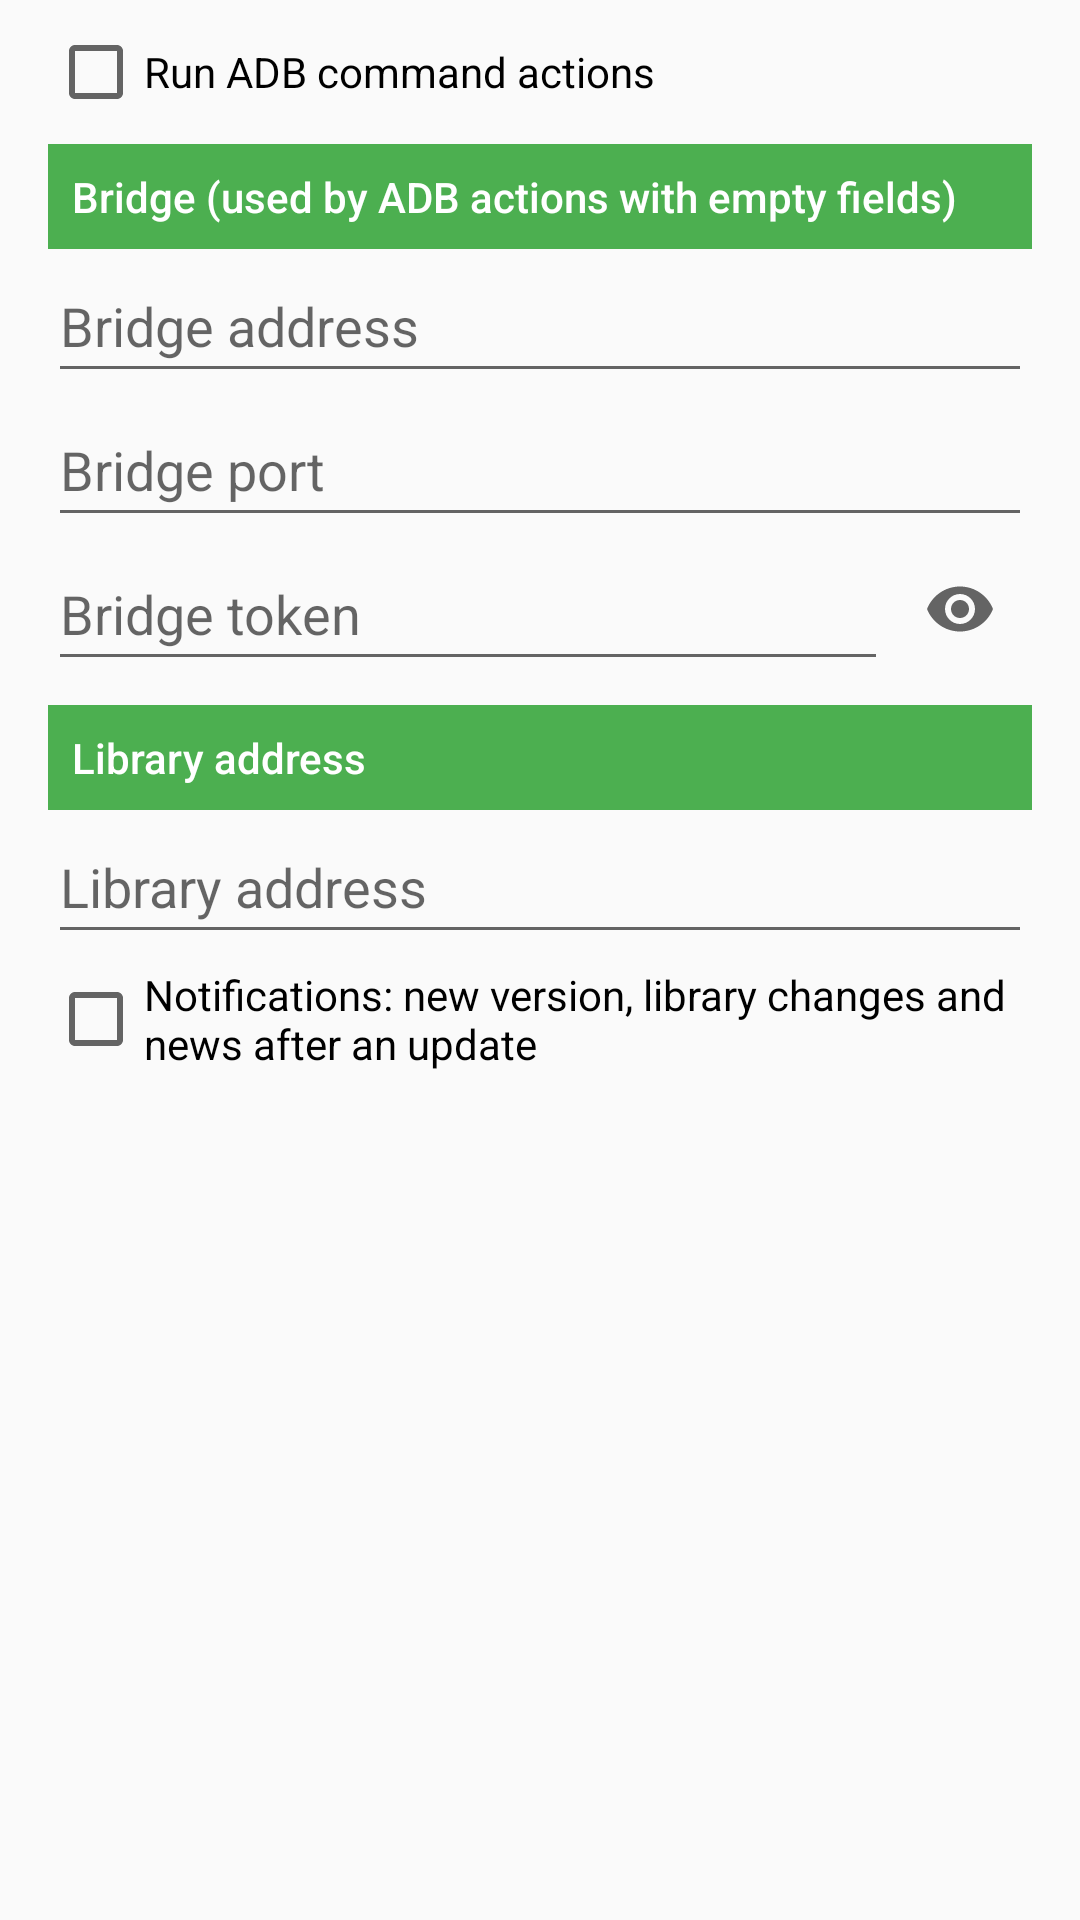

Point at icon controls on the screen. Image size 1080px×1920px, points as point (x, y).
Show or hide the token: point (960, 609)
